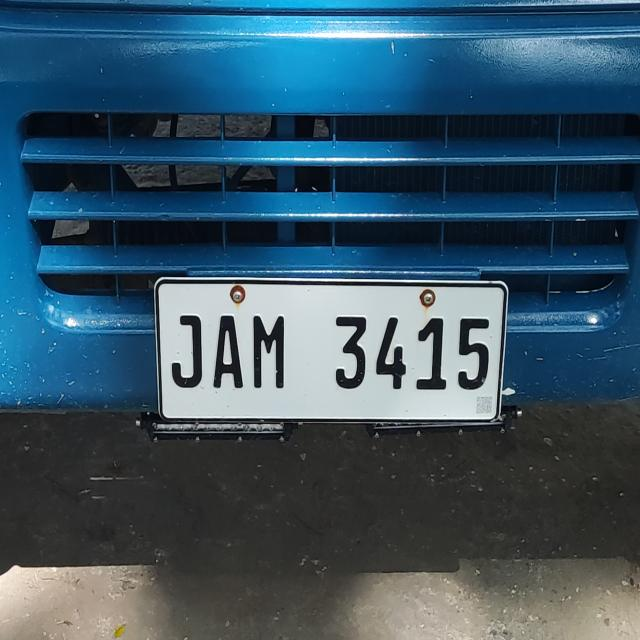plate: (152, 276, 512, 426)
